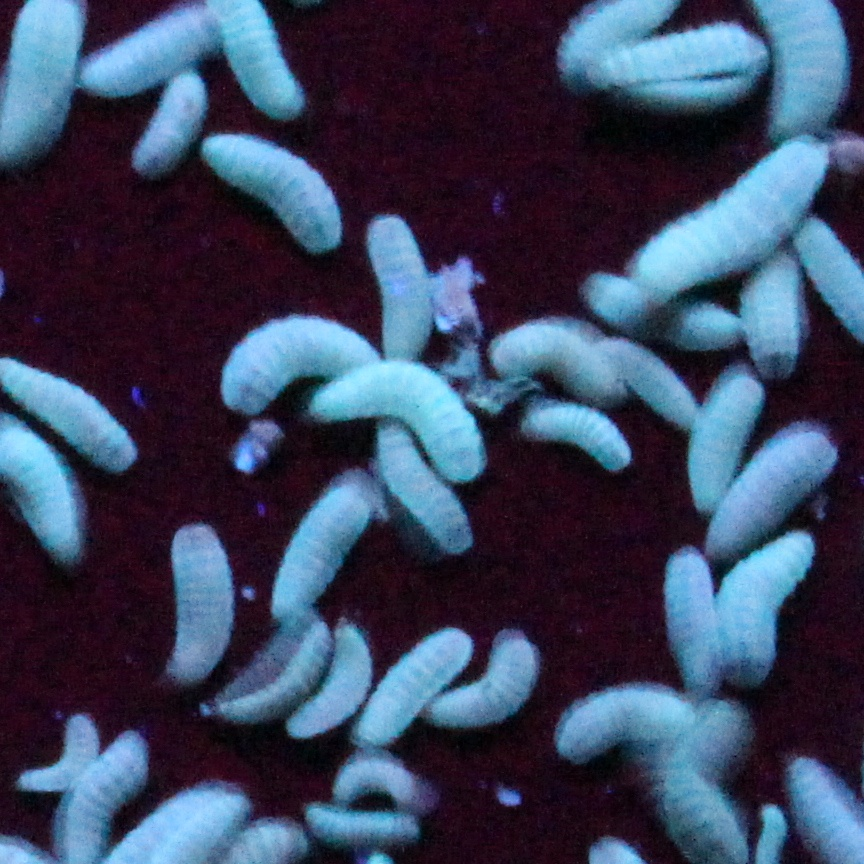larve: (642, 136, 834, 304), (307, 352, 495, 472), (695, 432, 830, 546), (210, 321, 375, 404), (4, 361, 144, 458), (350, 629, 464, 744), (270, 484, 375, 606), (198, 148, 342, 236), (213, 615, 321, 729), (375, 424, 475, 544), (364, 226, 447, 369), (90, 12, 218, 100), (594, 36, 758, 104), (161, 524, 235, 672), (495, 329, 627, 406), (730, 538, 804, 672), (287, 624, 373, 738), (655, 549, 727, 684), (690, 375, 761, 501), (441, 629, 533, 726), (521, 406, 647, 472), (567, 692, 690, 755), (13, 718, 95, 786)
